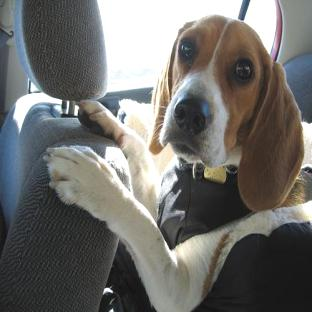Animal: (44, 15, 312, 311)
